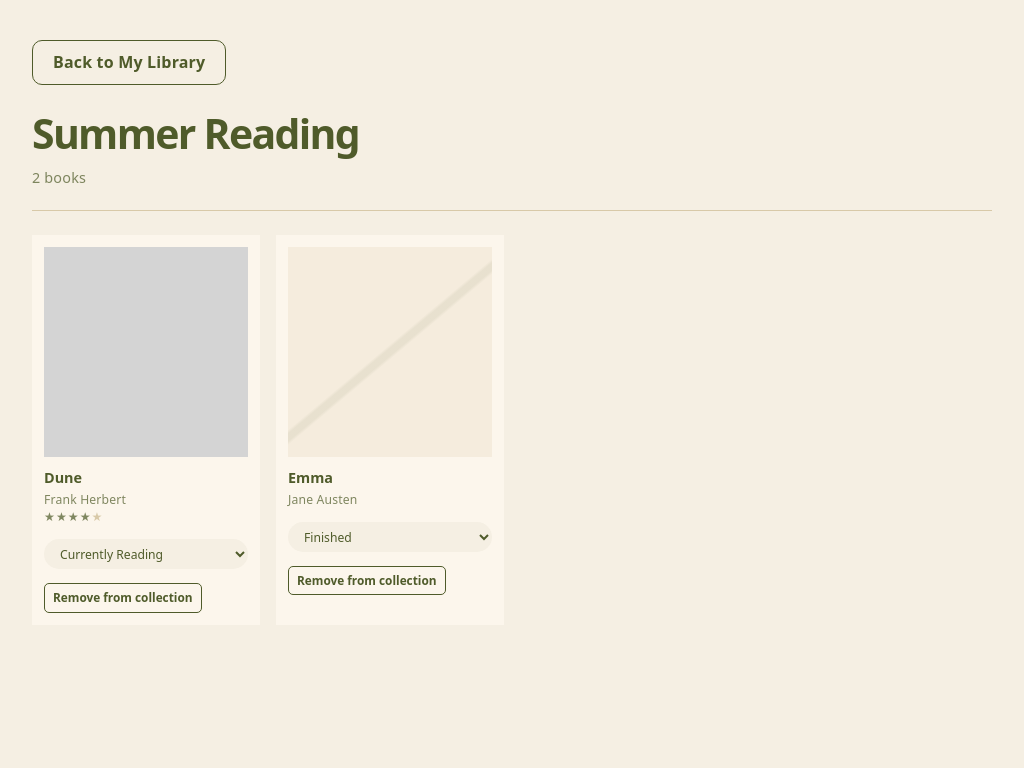
Test: CollectionDetailsPage › shows unavailable if the collection disappeared during removal
Check: the button "Dune" is shown, box [44,468,82,487]
Click the button with aria-label "Remove Dune from collection": (123, 598) [44,583,202,612]
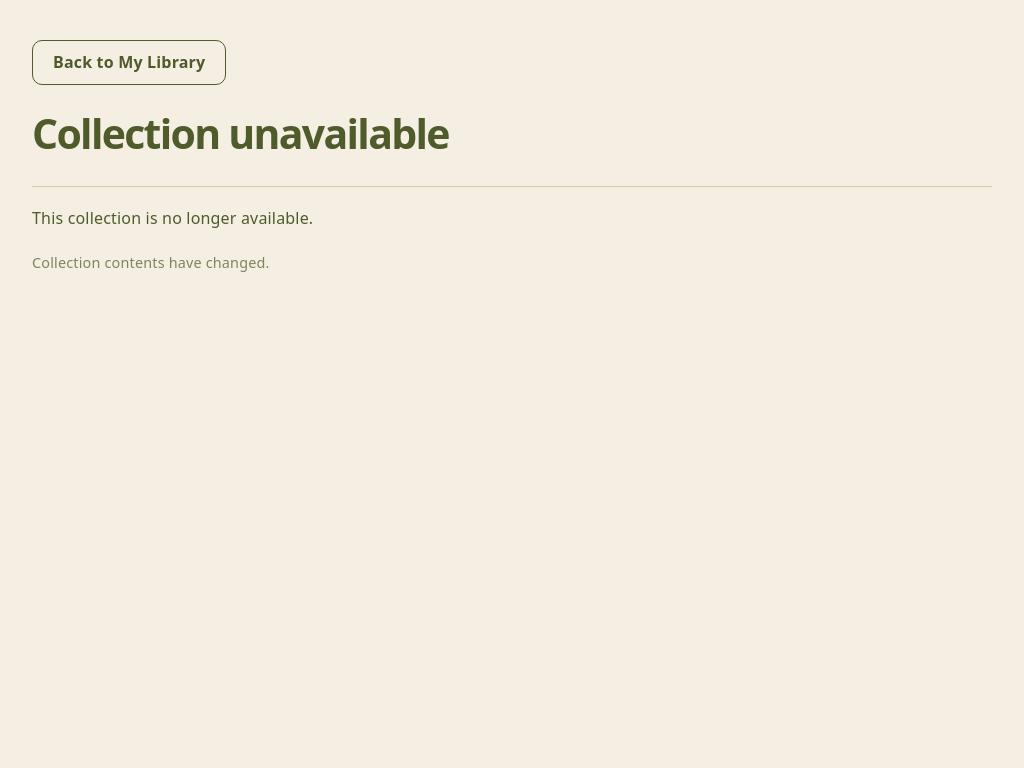
Check: the heading "Collection unavailable" is shown, box [32,105,449,161]
Check: the message "This collection is no longer available." is shown, box [32,207,313,229]
